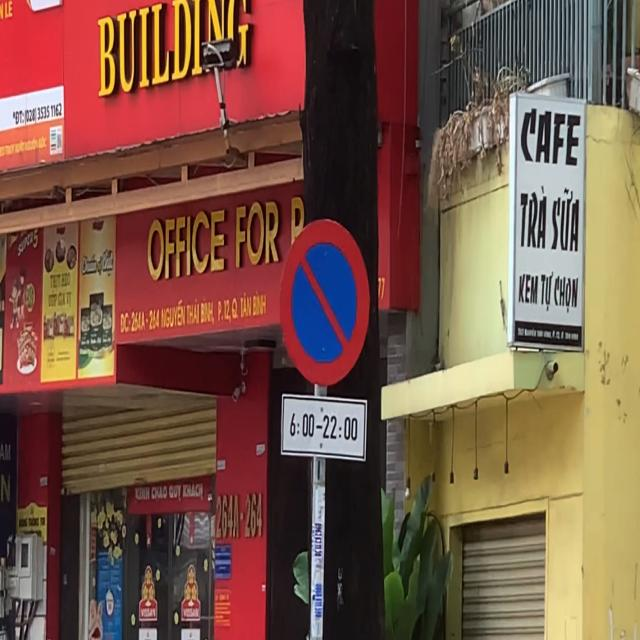Cam do: (280, 219, 371, 386)
